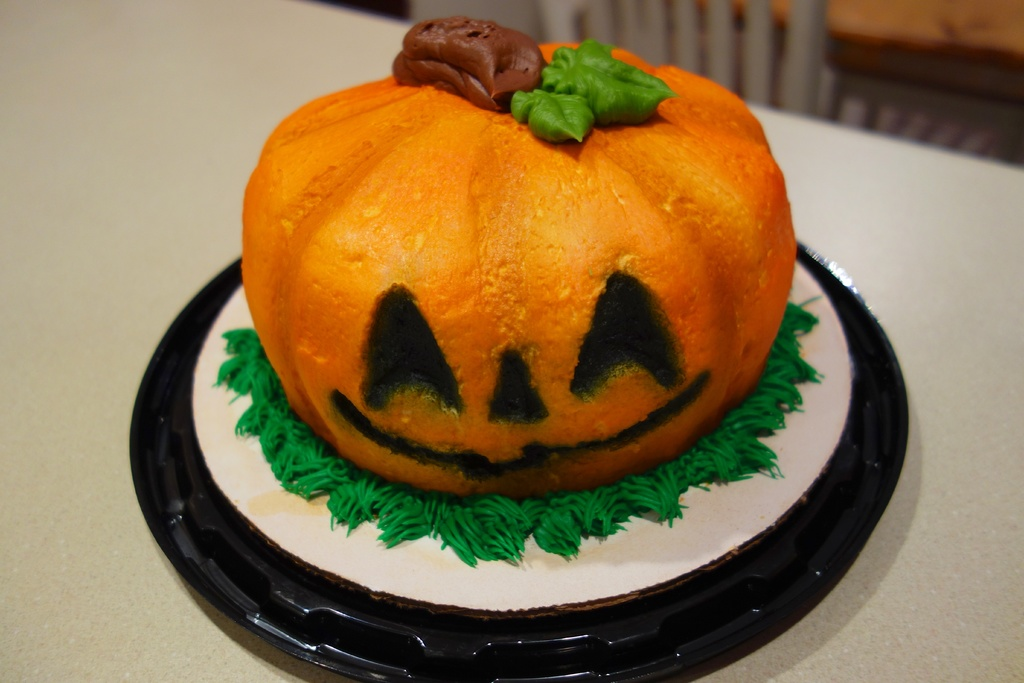cake: (130, 18, 908, 682)
